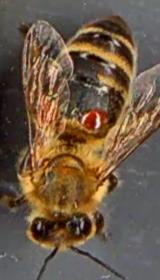varroa_mite: (71, 100, 113, 132)
